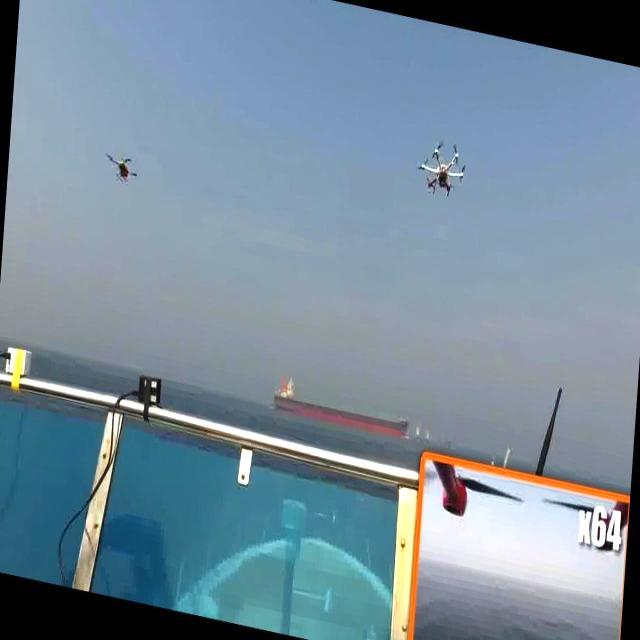drone: (412, 133, 473, 207), (104, 151, 138, 184)
